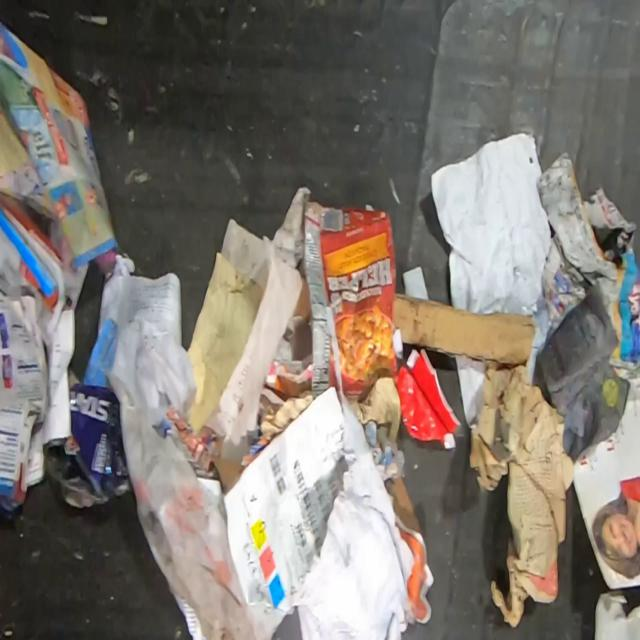cardboard: (536, 149, 640, 381), (303, 200, 403, 404), (392, 292, 536, 370)
rigid_plastic: (393, 348, 463, 450)
soft_plastic: (104, 370, 288, 640), (44, 382, 131, 511)
